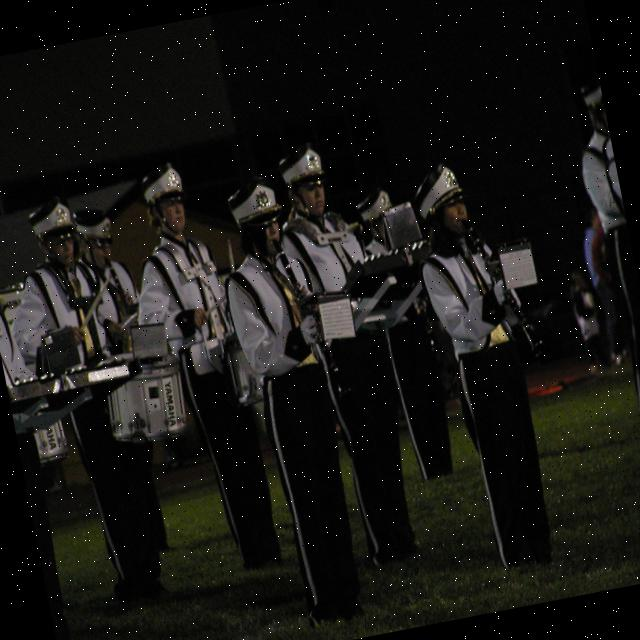clarinet: (271, 228, 360, 410), (464, 211, 550, 374)
